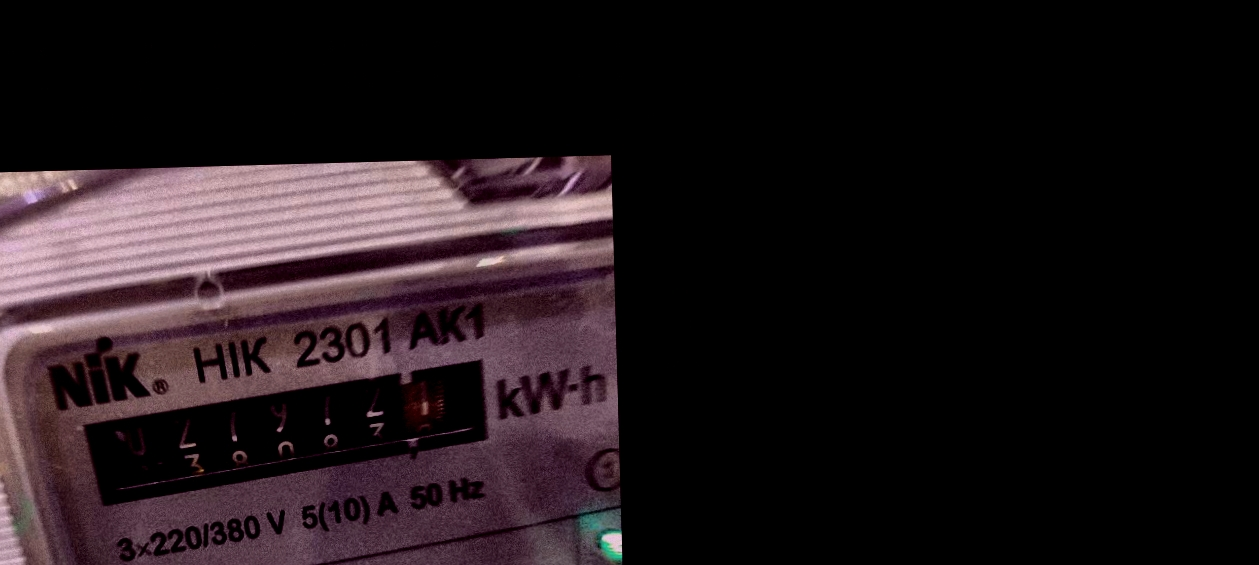0: (121, 422, 150, 458)
1: (413, 377, 436, 420)
2: (170, 411, 200, 451), (359, 382, 388, 420)
7: (312, 388, 339, 430), (219, 407, 243, 445)
9: (266, 399, 293, 434)
screen: (65, 350, 521, 517)
